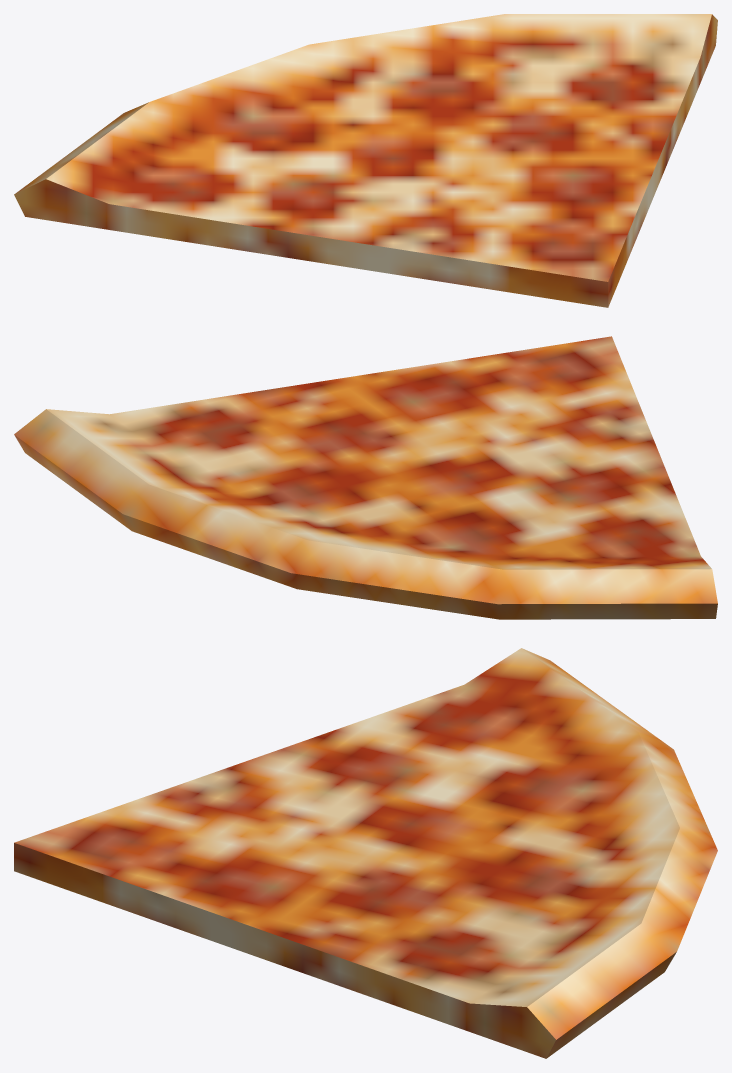
Rendered from pepperoni slice big.fbx.
3 renders of one model, top to bottom at view 1: azimuth 30°, elevation 25°; view 2: azimuth 150°, elevation 25°; view 3: azimuth 270°, elevation 25°, orthographic. The views are drawn at different scales.
Visible parts, largest first — view 1: slice pepperoni big; view 2: slice pepperoni big; view 3: slice pepperoni big.
Boxes of the visible parts, x1,y1,x2,y2 form: slice pepperoni big: (14,14,717,307); slice pepperoni big: (14,336,717,619); slice pepperoni big: (14,648,717,1058).
Size of the model in its own units: 23.38 by 1.29 by 18.32.
Materials: 1 (1 with a texture image).
